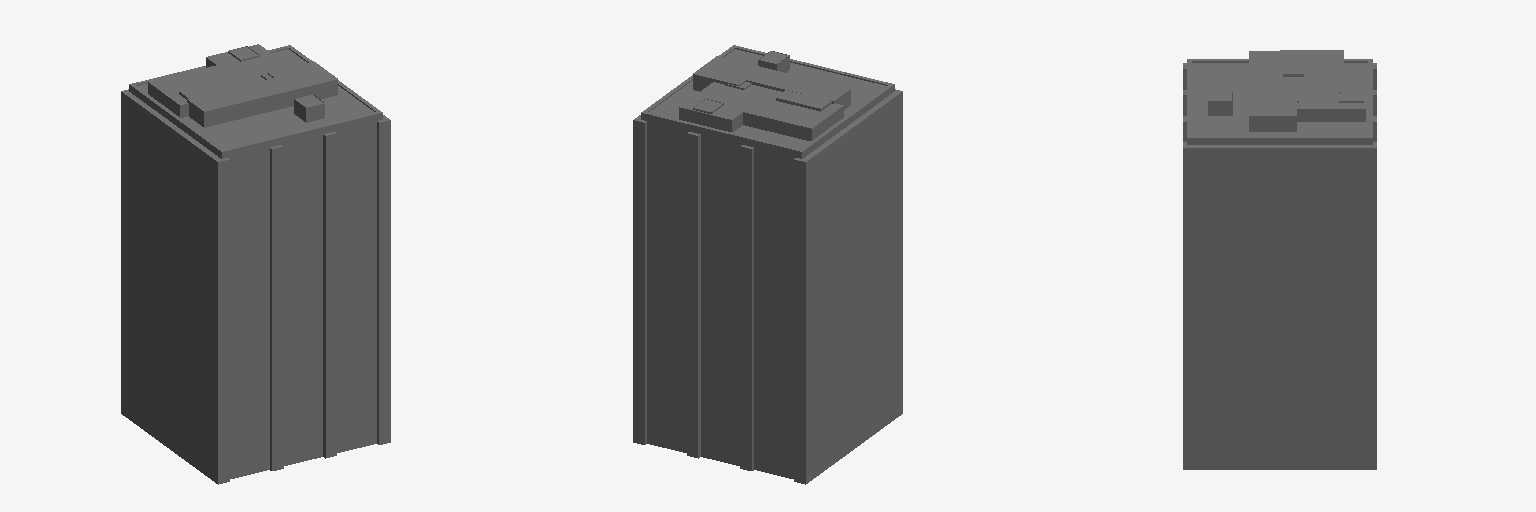
The model's file is mid1.obj.
3 views of the same model, side by side, from view 1: azimuth 30°, elevation 25°; view 2: azimuth 150°, elevation 25°; view 3: azimuth 270°, elevation 25° (orthographic).
Parts seen in each view (by area): view 1: polySurface496; view 2: polySurface496; view 3: polySurface496.
Boxes of the visible parts, <box> form: polySurface496: <box>121,44,390,484</box>; polySurface496: <box>633,45,902,484</box>; polySurface496: <box>1183,50,1376,469</box>.
Size of the model in its own units: 0.0192 by 0.0365 by 0.0187.